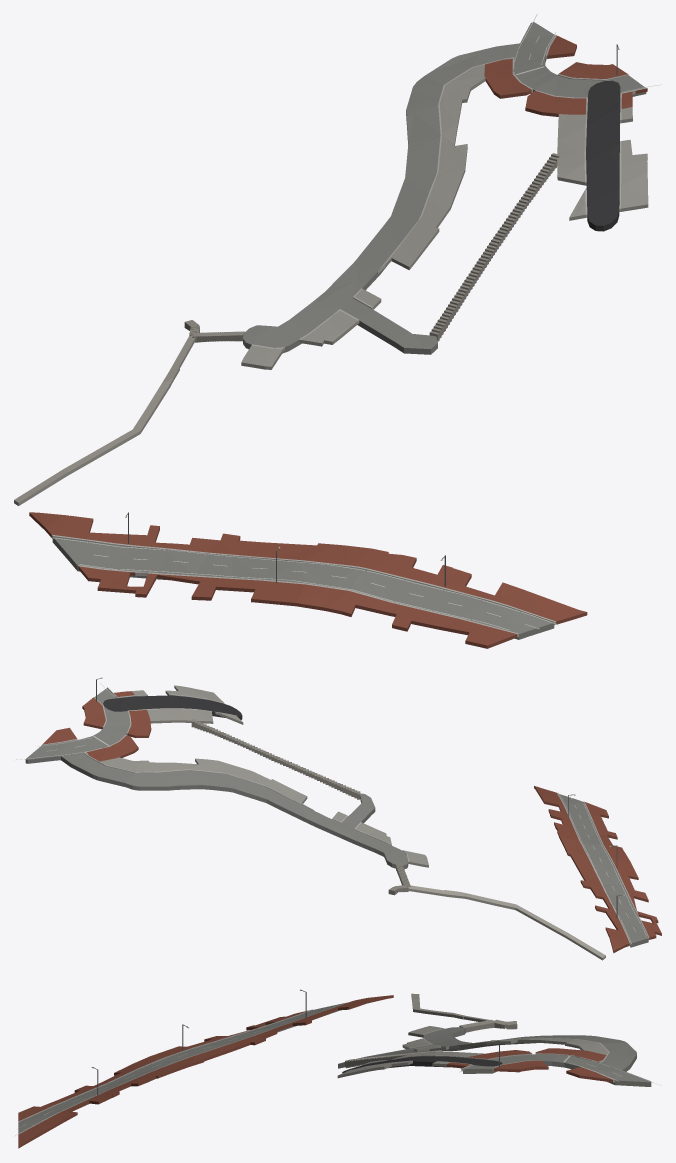
The picture shows the model from 3 angles, top to bottom: view 1: azimuth 30°, elevation 25°; view 2: azimuth 150°, elevation 25°; view 3: azimuth 270°, elevation 25°; orthographic projection. The views are drawn at different scales.
Size of the model in its own units: 150 by 62.18 by 149.
